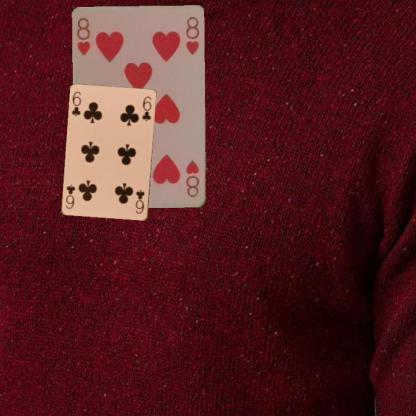6c: (133, 187, 146, 216), (69, 89, 82, 118)
8h: (74, 15, 92, 57), (183, 158, 201, 199)
